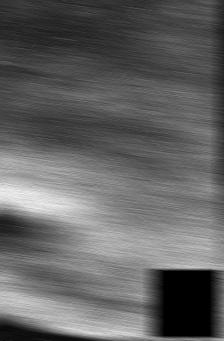Airbag: (0, 0, 224, 340), (218, 0, 224, 341)
